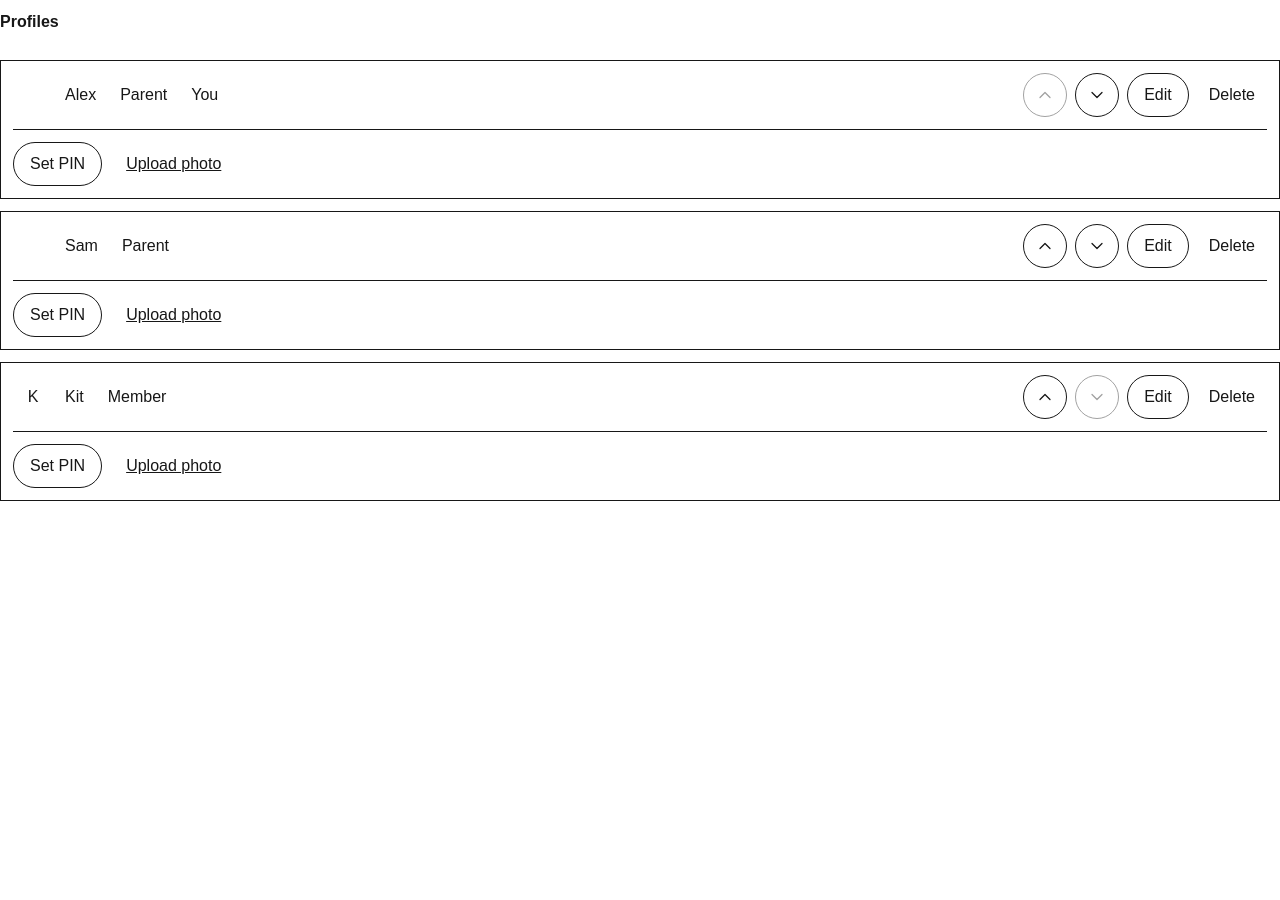
CategorySection › confirms before deleting, naming who goes
Click the button with aria-label "Delete Sam" at point(1232, 246), box [1197,224,1267,268]
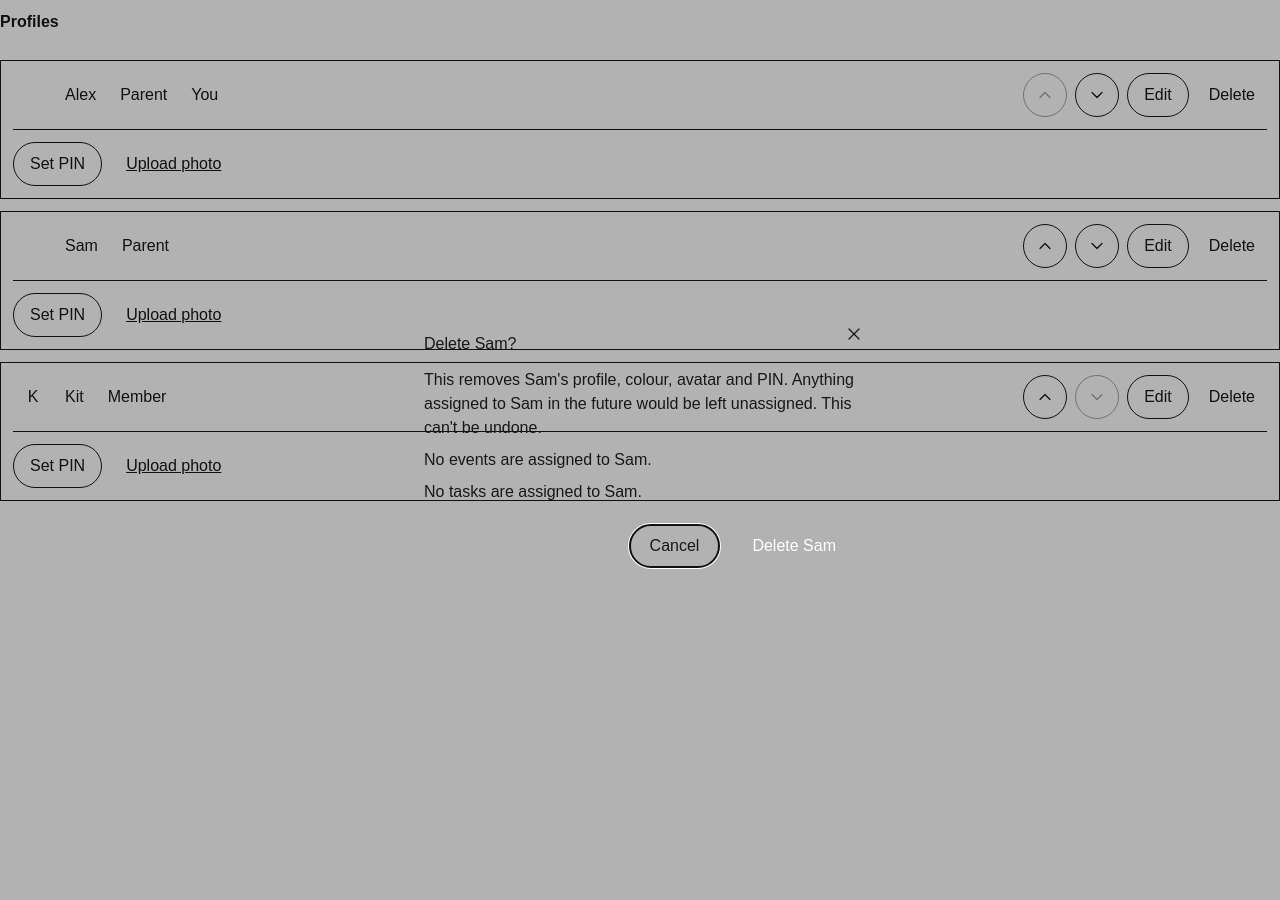
expect the heading "Delete Sam?" is shown: met, box [424,335,516,352]
